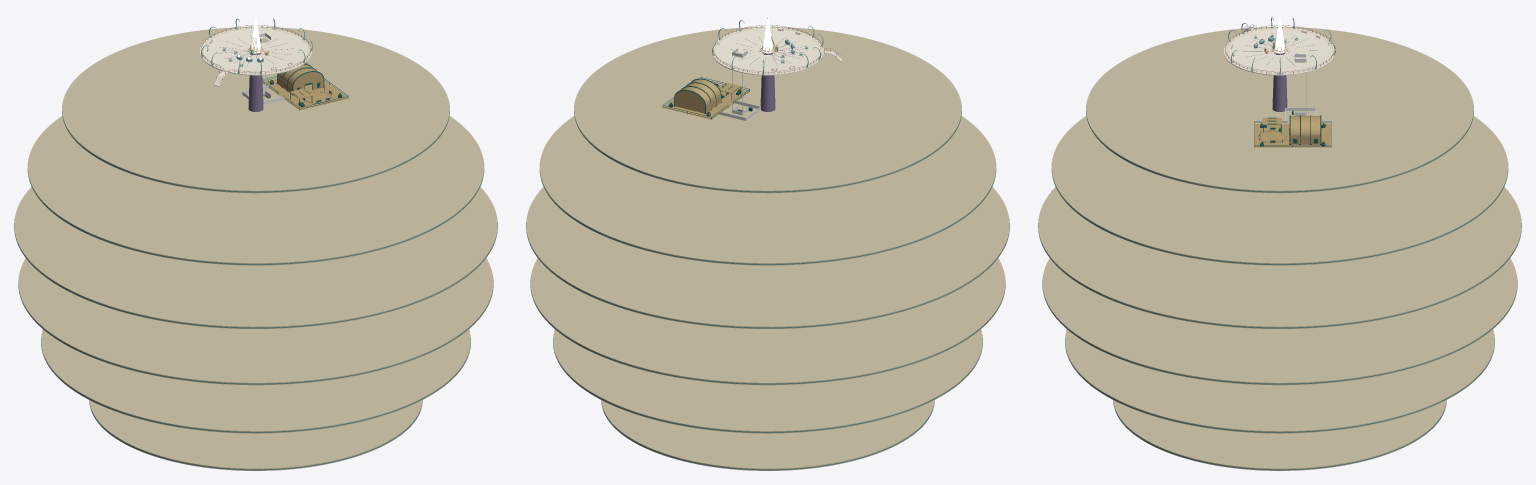
Rendered from full_assembly.glb.
The picture shows the model from 3 angles, left to right: view 1: azimuth 30°, elevation 25°; view 2: azimuth 150°, elevation 25°; view 3: azimuth 270°, elevation 25°; orthographic projection.
Visible parts, largest first — view 1: Deck 01 top 57m, Deck 02 top 32m, Deck 03 top 7m, Deck 04 top -18m, Deck 05 top -43m, Deck 06 top -68m, COMMONS_floor_paving, Deck 04 edge, Deck 03 edge, Deck 02 edge, deck_floor_fill, Deck 05 edge (+2 smaller); view 2: Deck 01 top 57m, Deck 02 top 32m, Deck 03 top 7m, Deck 04 top -18m, Deck 05 top -43m, Deck 06 top -68m, Deck 04 edge, Deck 03 edge, COMMONS_floor_paving, Deck 02 edge, deck_floor_fill, Deck 05 edge (+2 smaller); view 3: Deck 01 top 57m, Deck 02 top 32m, Deck 03 top 7m, Deck 04 top -18m, Deck 05 top -43m, Deck 06 top -68m, COMMONS_floor_paving, Deck 03 edge, Deck 04 edge, deck_floor_fill, Deck 02 edge, COMMONS_vault_roof (+3 smaller).
Part boxes in pixels (<box>): Deck 01 top 57m: <box>62,27,449,193</box>; Deck 02 top 32m: <box>27,96,484,265</box>; Deck 03 top 7m: <box>14,187,497,328</box>; Deck 04 top -18m: <box>18,258,493,385</box>; Deck 05 top -43m: <box>41,329,470,433</box>; Deck 06 top -68m: <box>89,400,422,470</box>; COMMONS_floor_paving: <box>262,79,347,110</box>; Deck 04 edge: <box>18,279,493,384</box>; Deck 03 edge: <box>14,217,497,328</box>; Deck 02 edge: <box>27,163,484,264</box>; deck_floor_fill: <box>199,27,311,74</box>; Deck 05 edge: <box>41,335,470,432</box>; Deck 01 top 57m: <box>574,27,961,193</box>; Deck 02 top 32m: <box>539,116,996,265</box>; Deck 03 top 7m: <box>526,187,1009,328</box>; Deck 04 top -18m: <box>530,258,1005,385</box>; Deck 05 top -43m: <box>553,329,982,433</box>; Deck 06 top -68m: <box>601,400,934,470</box>; Deck 04 edge: <box>530,279,1005,384</box>; Deck 03 edge: <box>526,217,1009,328</box>; COMMONS_floor_paving: <box>663,84,749,119</box>; Deck 02 edge: <box>539,163,996,264</box>; deck_floor_fill: <box>711,27,823,74</box>; Deck 05 edge: <box>553,335,982,432</box>; Deck 01 top 57m: <box>1086,27,1473,193</box>; Deck 02 top 32m: <box>1051,116,1508,265</box>; Deck 03 top 7m: <box>1038,187,1521,328</box>; Deck 04 top -18m: <box>1042,258,1517,385</box>; Deck 05 top -43m: <box>1065,329,1494,433</box>; Deck 06 top -68m: <box>1113,400,1446,470</box>; COMMONS_floor_paving: <box>1254,124,1330,147</box>; Deck 03 edge: <box>1038,223,1521,328</box>; Deck 04 edge: <box>1042,279,1517,384</box>; deck_floor_fill: <box>1223,27,1336,74</box>; Deck 02 edge: <box>1051,163,1508,264</box>; COMMONS_vault_roof: <box>1290,116,1320,136</box>.
Size of the model in its own units: 189 by 178 by 189.
14 materials, 1 textured.
